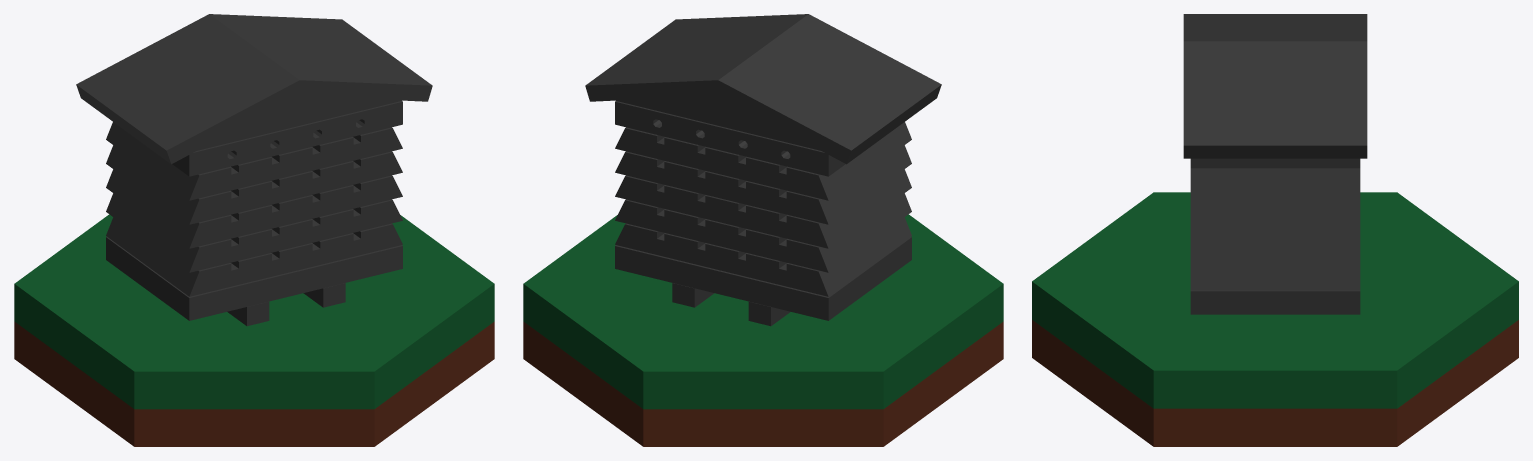
Rendered from SM_BeeHouse.FBX.
3 views of the same model, side by side, from view 1: azimuth 30°, elevation 25°; view 2: azimuth 150°, elevation 25°; view 3: azimuth 270°, elevation 25° (orthographic).
Parts seen in each view (by area): view 1: SM_BeeHouse; view 2: SM_BeeHouse; view 3: SM_BeeHouse.
Boxes of the visible parts, x1=… form: SM_BeeHouse: x1=14, y1=14, x2=494, y2=446; SM_BeeHouse: x1=523, y1=14, x2=1003, y2=446; SM_BeeHouse: x1=1032, y1=14, x2=1518, y2=446.
Bounding box in the file's own units: 100 × 115 × 82.79.
